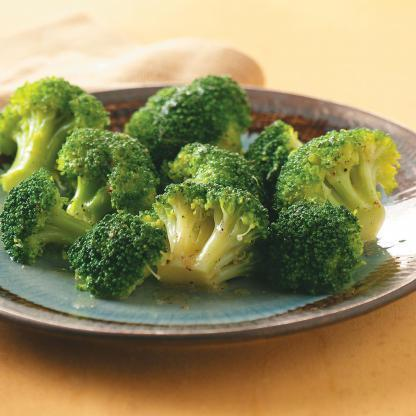broccoli: (0, 74, 403, 300)
